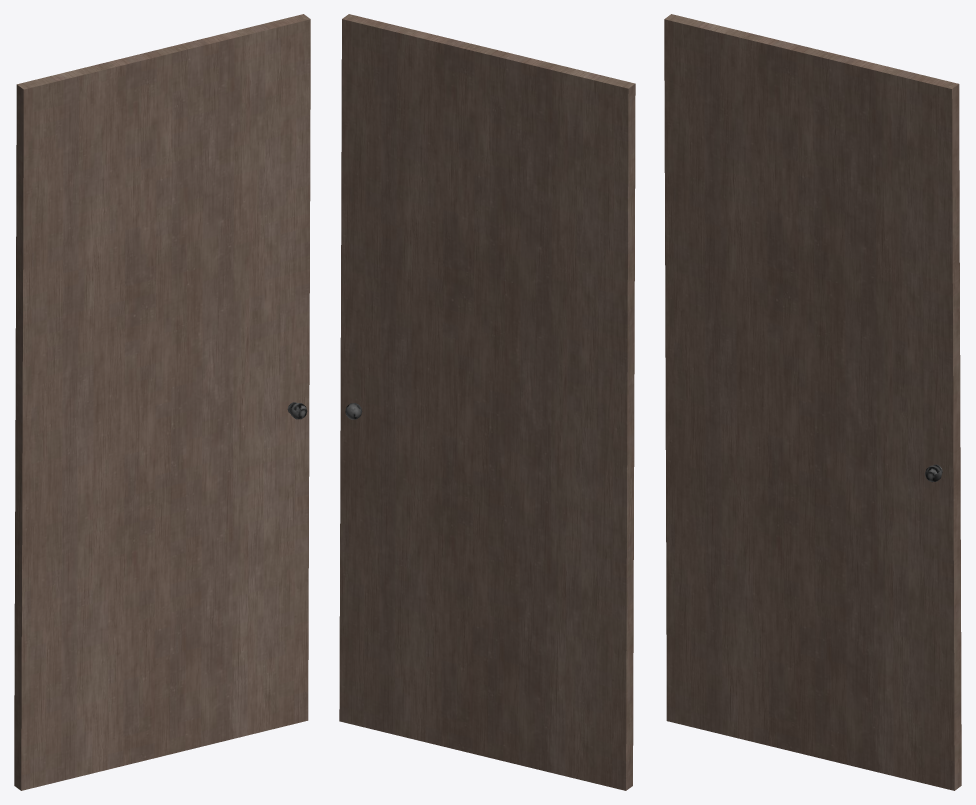
File: door3.glb
3 renders of one model, left to right at view 1: azimuth 30°, elevation 25°; view 2: azimuth 150°, elevation 25°; view 3: azimuth 330°, elevation 25°, orthographic.
Parts seen in each view (by area): view 1: frl_apartment_door_03; view 2: frl_apartment_door_03; view 3: frl_apartment_door_03.
Part boxes in pixels (x1,y1,x2,y2): frl_apartment_door_03: (14,14,310,790); frl_apartment_door_03: (339,14,635,790); frl_apartment_door_03: (664,14,961,790).
Size of the model in its own units: 0.9032 by 2.11 by 0.1276.
Materials: 2 (2 with a texture image).
